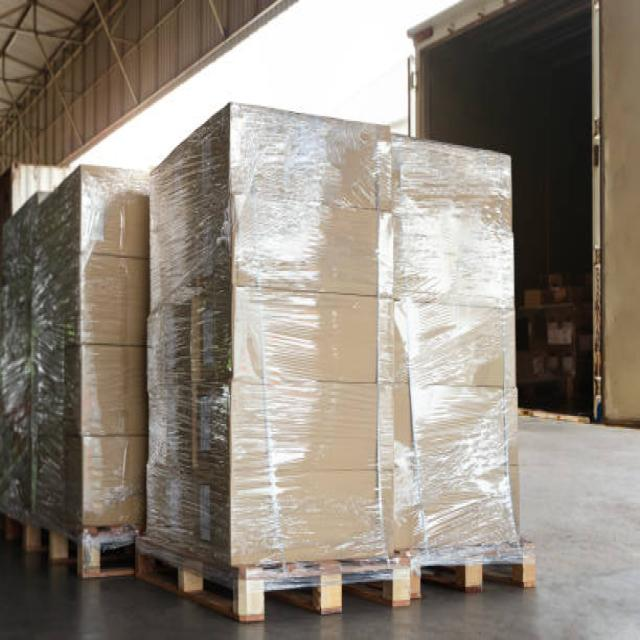Wooden-Pallets: (129, 532, 413, 630), (17, 511, 139, 588), (409, 542, 539, 607)
